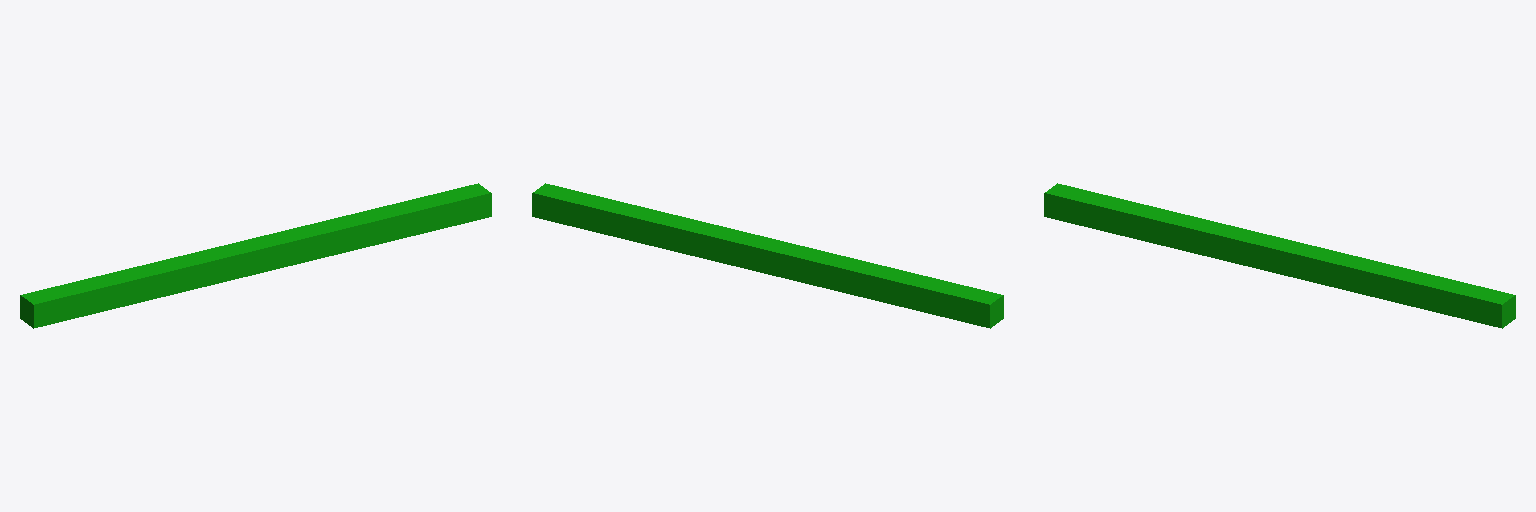
The robot description file, URDF, robot "block_2":
<?xml version="1.0"?>
<robot name="block_2">
  <link name="block_2_base_link">
    <contact>
      <lateral_friction value="1.0"/>
      <spinning_friction value=".001"/>
    </contact>
    <inertial>
      <origin rpy="0 0 00" xyz="0 0 0"/>
      <mass value="0.02"/>
      <inertia ixx="1" ixy="0" ixz="0" iyy="1" iyz="0" izz="1"/>
    </inertial>
    <visual>
      <origin rpy="0 0 00" xyz="0.0 0.0 0.0"/>
      <geometry>
        <box size="0.1 0.005 0.005"/>
      </geometry>
      <material name="blockmat">
        <color rgba="0.1 0.7 0.1 1"/>
      </material>
    </visual>
    <collision>
      <origin rpy="0 0 00" xyz="0.0 0.0 0.0"/>
      <geometry>
        <box size="0.1 0.005 0.005"/>
      </geometry>
    </collision>
  </link>
</robot>

--- What the picture shows (computed from the rendered views, not written in the file) ---
3 views of the same robot in one strip: view 1: azimuth 30°, elevation 25°; view 2: azimuth 150°, elevation 25°; view 3: azimuth 330°, elevation 25° (orthographic).
Model block_2 with 1 links and 0 joints (none), rooted at block_2_base_link, posed all joints at 0.
Visible links, largest first — view 1: block_2_base_link; view 2: block_2_base_link; view 3: block_2_base_link.
Boxes of the visible links, bbox=[...] form: block_2_base_link: bbox=[20, 183, 491, 328]; block_2_base_link: bbox=[532, 183, 1003, 328]; block_2_base_link: bbox=[1044, 183, 1515, 328].
Size in the robot's own frame: 0.1 by 0.005 by 0.005 metres.
Geometry: primitives only (box / cylinder / sphere), no mesh files.
